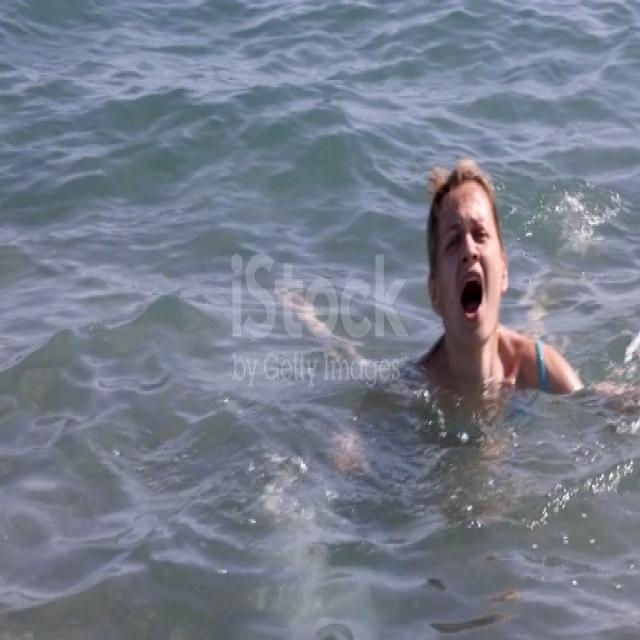drowning: (411, 154, 564, 436)
